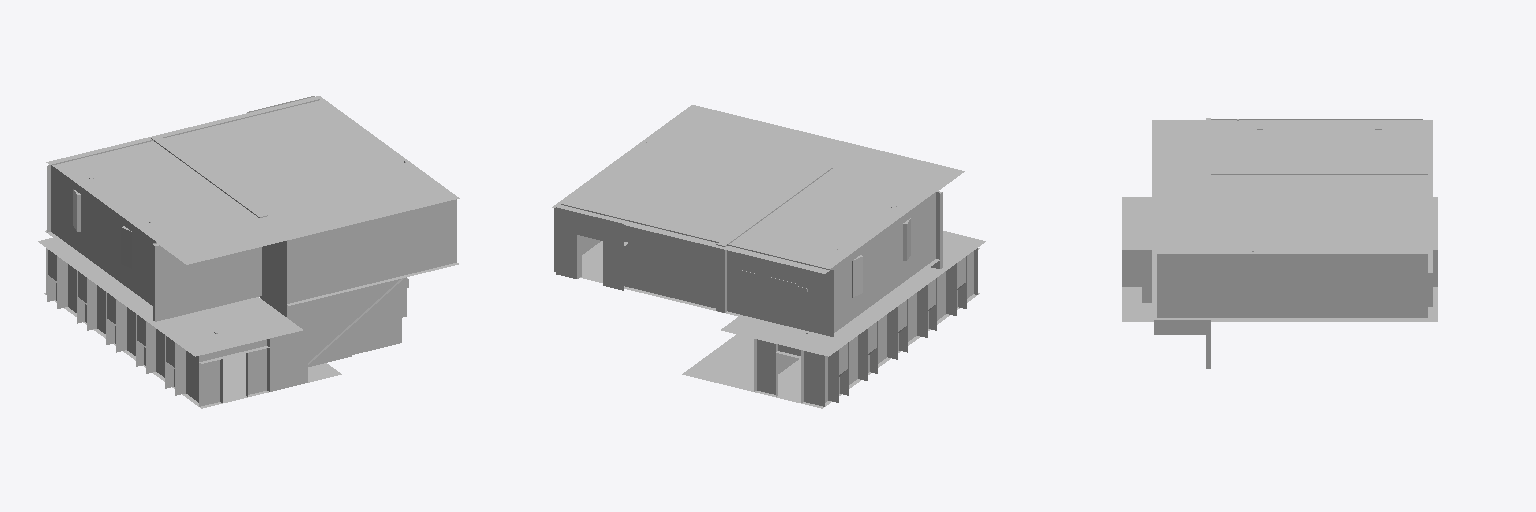
The model's file is LC_room2_sl.obj.
3 renders of one model, left to right at view 1: azimuth 30°, elevation 25°; view 2: azimuth 150°, elevation 25°; view 3: azimuth 270°, elevation 25°, orthographic.
Parts seen in each view (by area): view 1: room2sl_opt; view 2: room2sl_opt; view 3: room2sl_opt.
Boxes of the visible parts, box(x1,y1,x2,y2) form: room2sl_opt: box(38, 96, 459, 408); room2sl_opt: box(552, 105, 985, 408); room2sl_opt: box(1122, 118, 1437, 368).
Bounding box in the file's own units: 20.96 × 10.24 × 20.48.